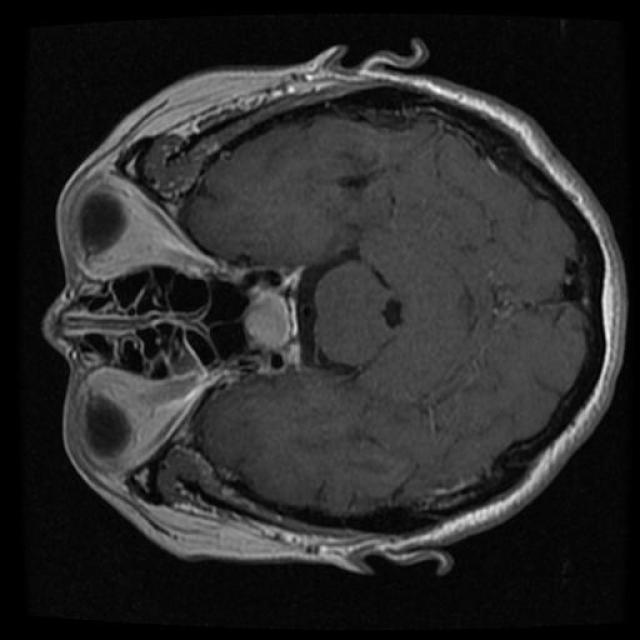Pituitary: (232, 266, 305, 372)
